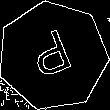P_S: (26, 26, 80, 86)
